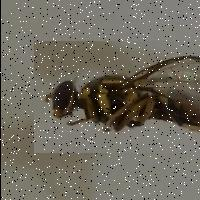Oriental-fruit-fly: (33, 40, 200, 152)
